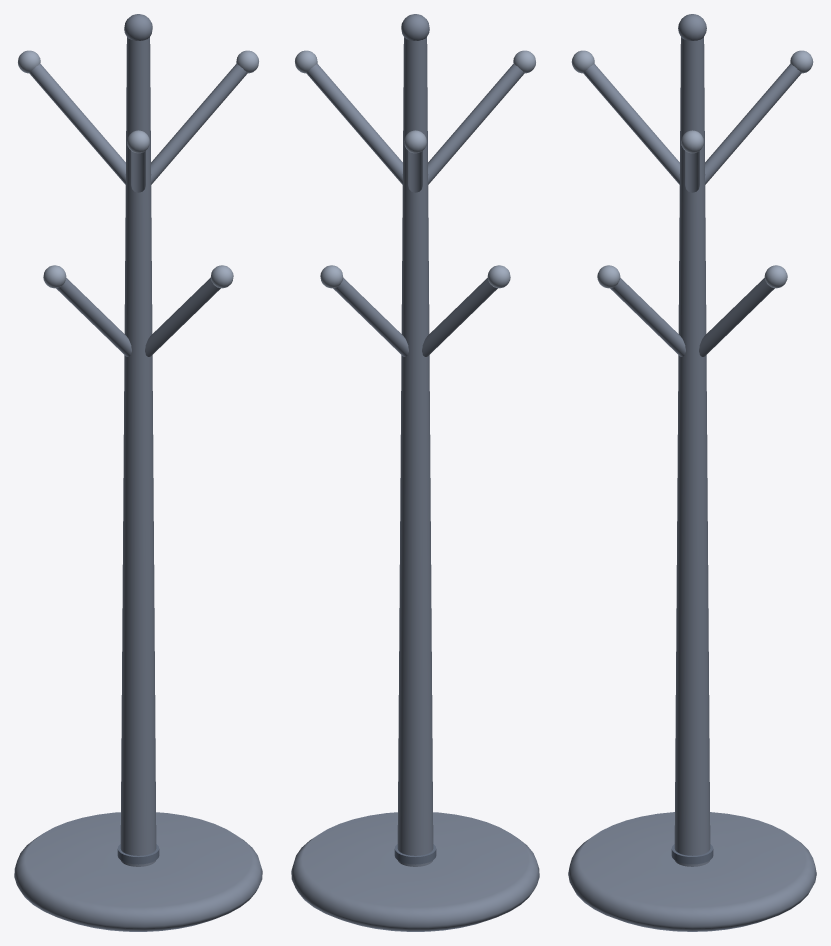
Rendered from coat-rack-lite.glb.
3 views of the same model, side by side, from view 1: azimuth 30°, elevation 25°; view 2: azimuth 150°, elevation 25°; view 3: azimuth 270°, elevation 25° (orthographic).
Parts seen in each view (by area): view 1: coat-rack-frame, coat-rack-accent; view 2: coat-rack-frame, coat-rack-accent; view 3: coat-rack-frame, coat-rack-accent.
Boxes of the visible parts, box(x1,y1,x2,y2) form: coat-rack-frame: box(14, 14, 262, 931); coat-rack-accent: box(18, 50, 258, 288); coat-rack-frame: box(291, 14, 539, 931); coat-rack-accent: box(295, 50, 535, 288); coat-rack-frame: box(568, 14, 816, 931); coat-rack-accent: box(571, 50, 813, 288).
Size of the model in its own units: 0.453 by 1.66 by 0.43.
